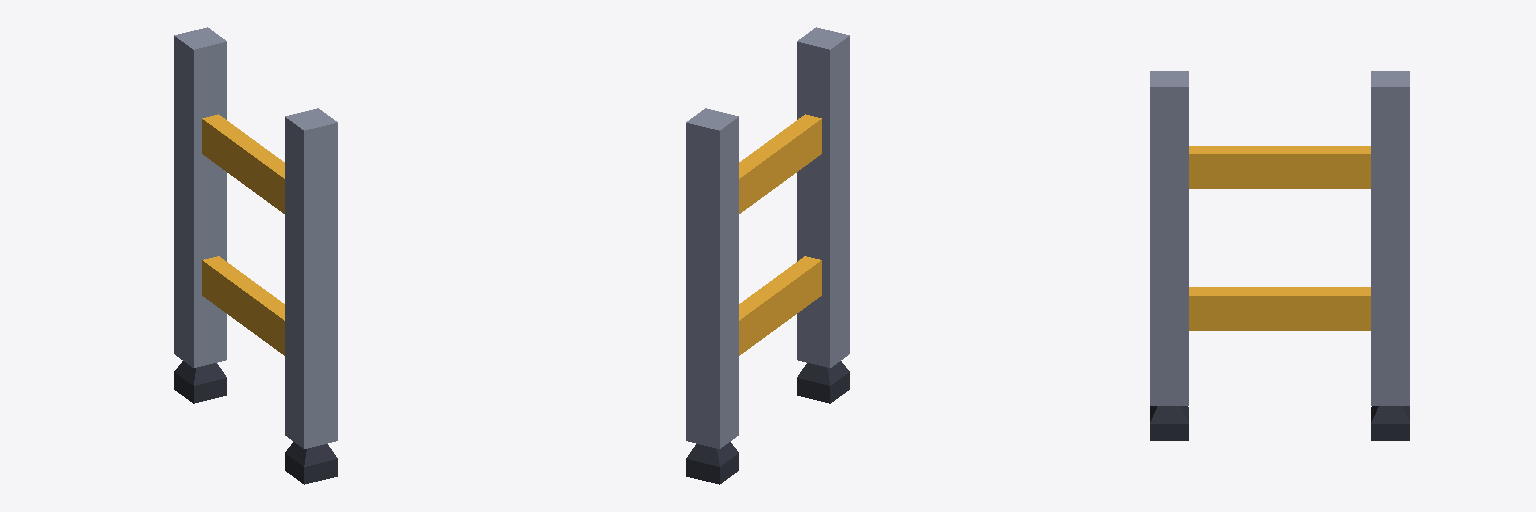
The model's file is fence.obj.
The picture shows the model from 3 angles: view 1: azimuth 30°, elevation 25°; view 2: azimuth 150°, elevation 25°; view 3: azimuth 270°, elevation 25°; orthographic projection.
Visible parts, largest first — view 1: structure-yellow-high.001; view 2: structure-yellow-high.001; view 3: structure-yellow-high.001.
Part boxes in pixels (bbox=[...]): structure-yellow-high.001: bbox=[174, 27, 337, 484]; structure-yellow-high.001: bbox=[686, 27, 849, 484]; structure-yellow-high.001: bbox=[1150, 71, 1409, 440].
Size of the model in its own units: 0.15 by 1.5 by 1.